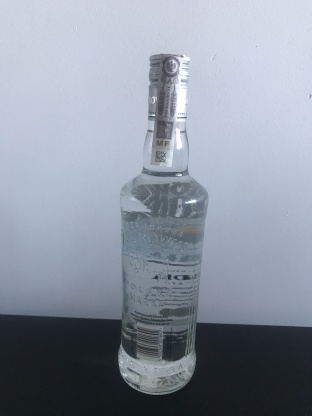nakretka: (145, 49, 191, 126)
